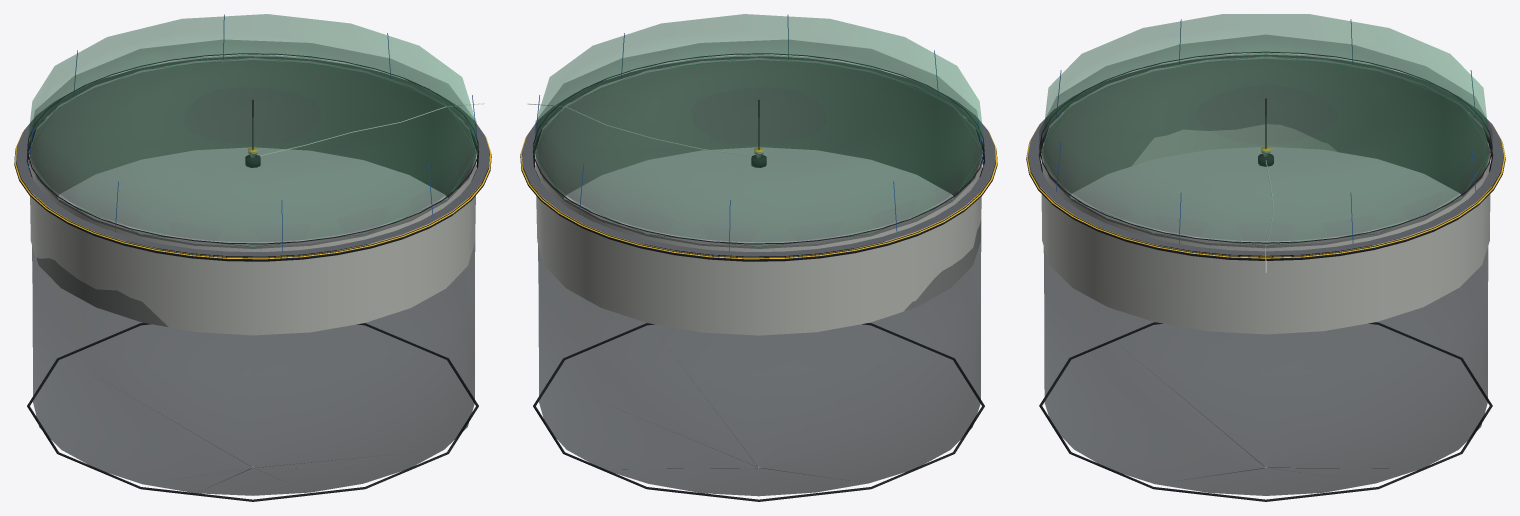
Rendered from pen_cage_LOD2.glb.
The picture shows the model from 3 angles, left to right: view 1: azimuth 30°, elevation 25°; view 2: azimuth 150°, elevation 25°; view 3: azimuth 270°, elevation 25°; orthographic projection.
Parts seen in each view (by area): view 1: Net, BirdNetRim, LiceSkirt, BirdNet, Walkway, Collar, SinkerTube, Handrail, Band, BirdNetRimPoles; view 2: Net, BirdNetRim, LiceSkirt, BirdNet, Walkway, Collar, SinkerTube, Handrail, Band, BirdNetRimPoles; view 3: Net, BirdNetRim, LiceSkirt, BirdNet, Walkway, Collar, SinkerTube, Handrail, Band, BirdNetRimPoles.
Part boxes in pixels (x1=…): Net: x1=28, y1=55, x2=476, y2=495; BirdNetRim: x1=28, y1=14, x2=477, y2=243; LiceSkirt: x1=29, y1=58, x2=476, y2=335; BirdNet: x1=29, y1=40, x2=476, y2=242; Walkway: x1=16, y1=56, x2=489, y2=256; Collar: x1=14, y1=130, x2=491, y2=261; SinkerTube: x1=27, y1=323, x2=478, y2=501; Handrail: x1=27, y1=53, x2=478, y2=247; Band: x1=14, y1=132, x2=491, y2=259; BirdNetRimPoles: x1=28, y1=14, x2=477, y2=251; Net: x1=535, y1=55, x2=983, y2=496; BirdNetRim: x1=534, y1=14, x2=983, y2=243; LiceSkirt: x1=535, y1=58, x2=982, y2=335; BirdNet: x1=535, y1=40, x2=982, y2=242; Walkway: x1=522, y1=56, x2=995, y2=256; Collar: x1=520, y1=130, x2=997, y2=261; SinkerTube: x1=533, y1=323, x2=984, y2=501; Handrail: x1=533, y1=53, x2=984, y2=247; Band: x1=520, y1=132, x2=997, y2=259; BirdNetRimPoles: x1=534, y1=14, x2=983, y2=251; Net: x1=1041, y1=53, x2=1490, y2=495; BirdNetRim: x1=1044, y1=14, x2=1487, y2=240; LiceSkirt: x1=1041, y1=56, x2=1490, y2=334; BirdNet: x1=1039, y1=35, x2=1492, y2=242; Walkway: x1=1028, y1=55, x2=1503, y2=255; Collar: x1=1026, y1=128, x2=1505, y2=260; SinkerTube: x1=1039, y1=322, x2=1492, y2=501; Handrail: x1=1039, y1=51, x2=1492, y2=246; Band: x1=1026, y1=126, x2=1505, y2=258; BirdNetRimPoles: x1=1056, y1=19, x2=1476, y2=243.
Size of the model in its own units: 56.82 by 45.5 by 53.63.
